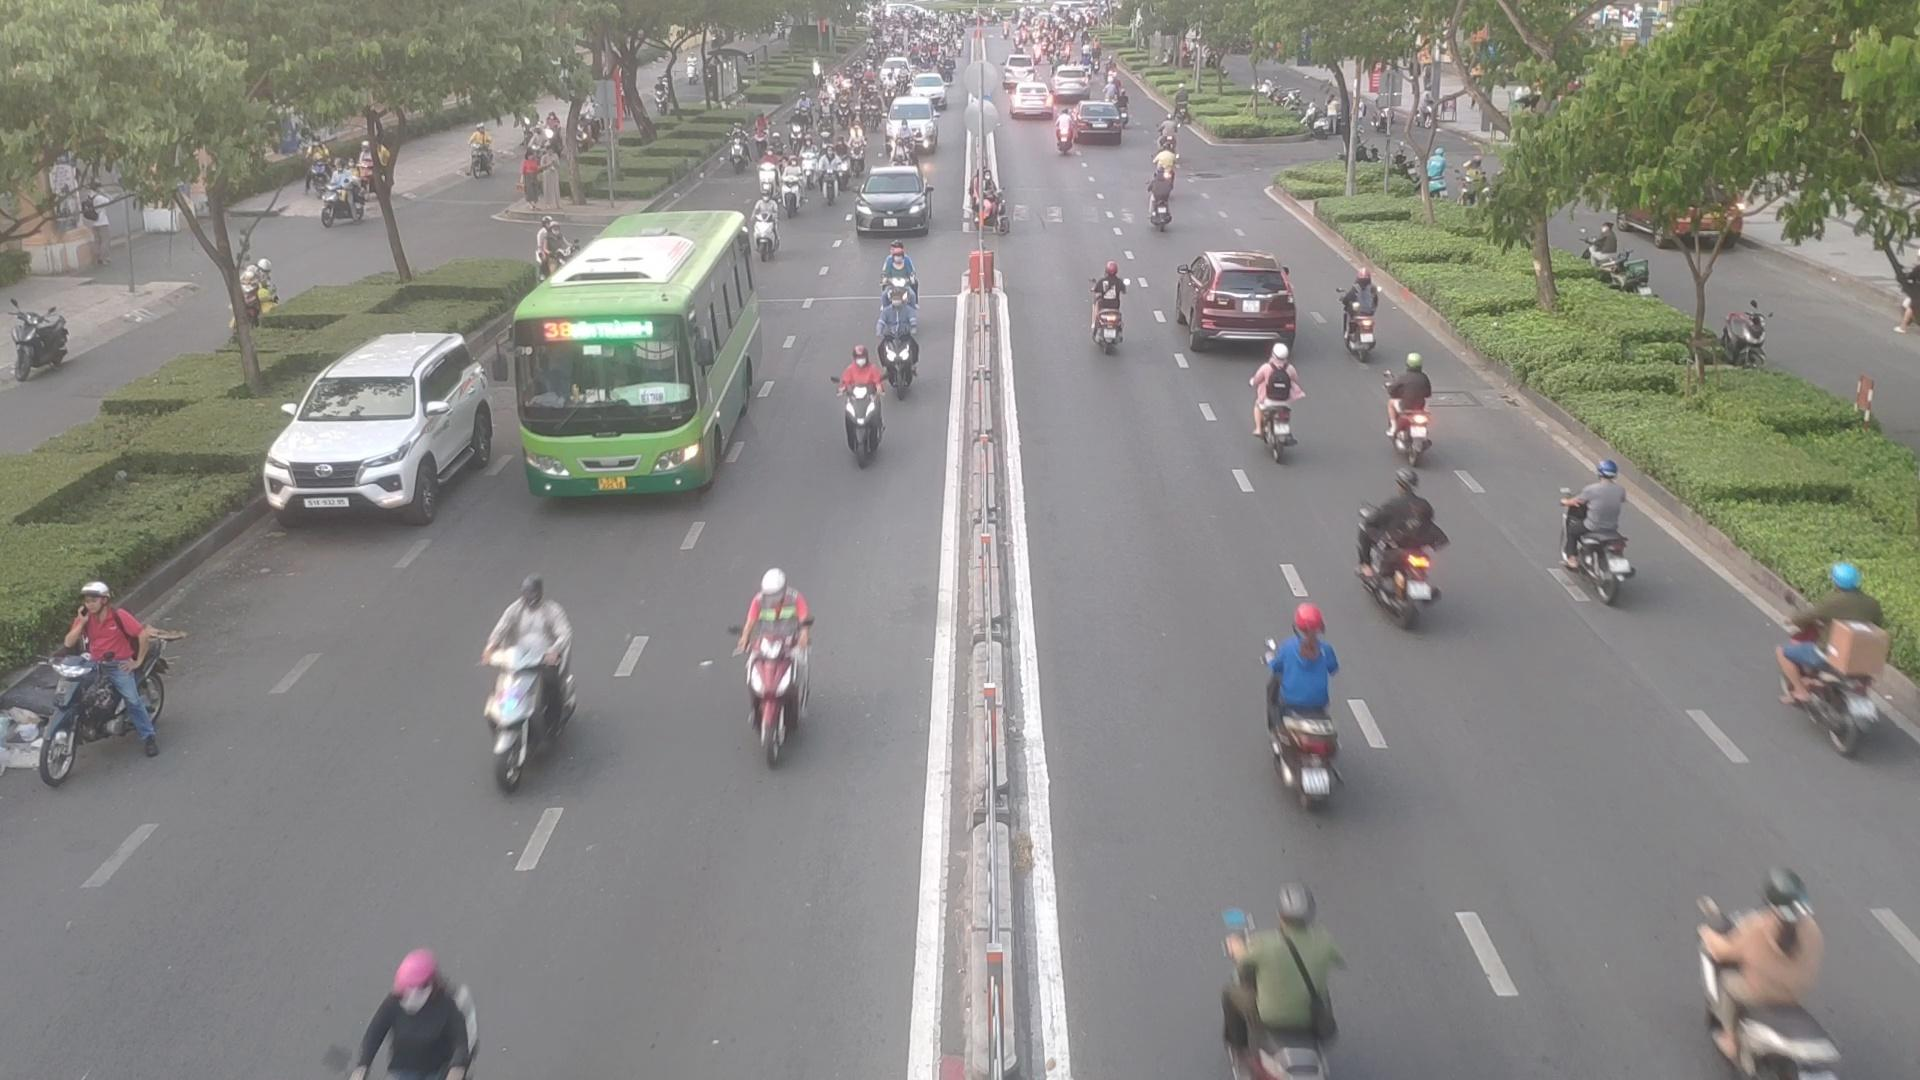bus: (506, 208, 767, 500)
car: (265, 331, 516, 525), (1176, 248, 1303, 351), (847, 165, 934, 237)
motorbike: (1688, 858, 1845, 1077), (18, 584, 171, 777), (1771, 575, 1920, 760), (1220, 876, 1354, 1080), (1247, 617, 1381, 803), (479, 580, 595, 777), (732, 572, 837, 760), (345, 953, 485, 1075), (1362, 479, 1447, 624), (1559, 465, 1647, 597), (832, 342, 911, 464), (1247, 339, 1311, 456), (1379, 352, 1444, 456), (1332, 278, 1386, 368), (876, 287, 924, 386), (1080, 264, 1131, 352), (1141, 160, 1178, 225)
